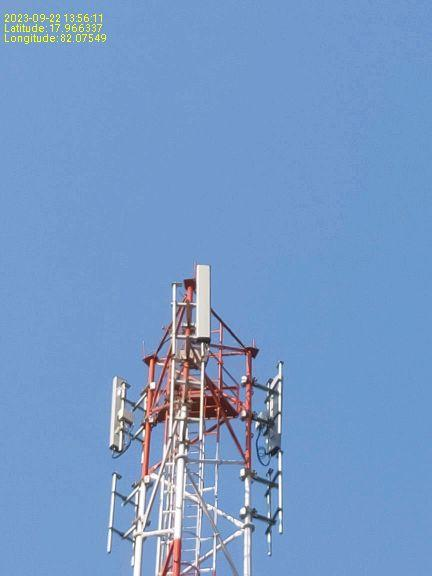antenna: (192, 262, 215, 346), (106, 370, 128, 456)
